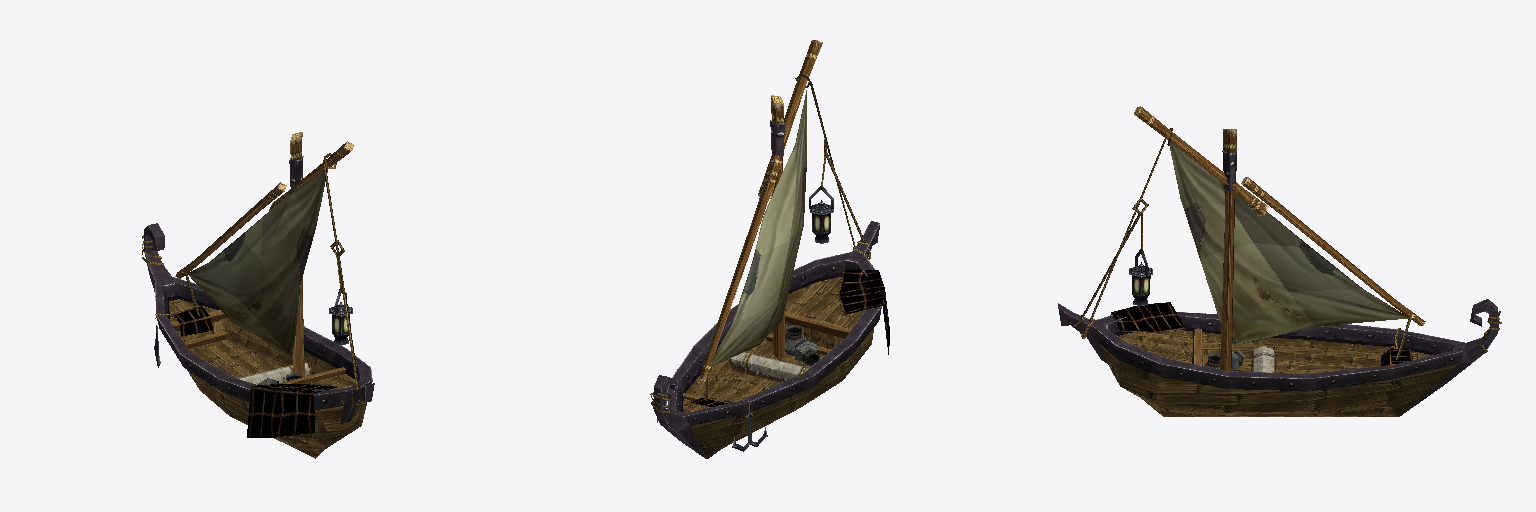
The picture shows the model from 3 angles: view 1: azimuth 30°, elevation 25°; view 2: azimuth 150°, elevation 25°; view 3: azimuth 270°, elevation 25°; orthographic projection.
Parts seen in each view (by area): view 1: Object_bypq_sl_boat01_[number redacted].jpg, Object_bypq_sl_mutou01_[number redacted].jpg; view 2: Object_bypq_sl_boat01_[number redacted].jpg, Object_bypq_sl_mutou01_[number redacted].jpg; view 3: Object_bypq_sl_boat01_[number redacted].jpg, Object_bypq_sl_mutou01_[number redacted].jpg.
Part boxes in pixels (bbox=[...]): Object_bypq_sl_boat01_[number redacted].jpg: bbox=[142, 132, 374, 437]; Object_bypq_sl_mutou01_[number redacted].jpg: bbox=[169, 299, 366, 458]; Object_bypq_sl_boat01_[number redacted].jpg: bbox=[650, 40, 889, 458]; Object_bypq_sl_mutou01_[number redacted].jpg: bbox=[683, 277, 873, 458]; Object_bypq_sl_boat01_[number redacted].jpg: bbox=[1058, 106, 1501, 415]; Object_bypq_sl_mutou01_[number redacted].jpg: bbox=[1101, 330, 1459, 416].
Size of the model in its own units: 0.8453 by 1.99 by 2.5.
3 materials, 2 textured.